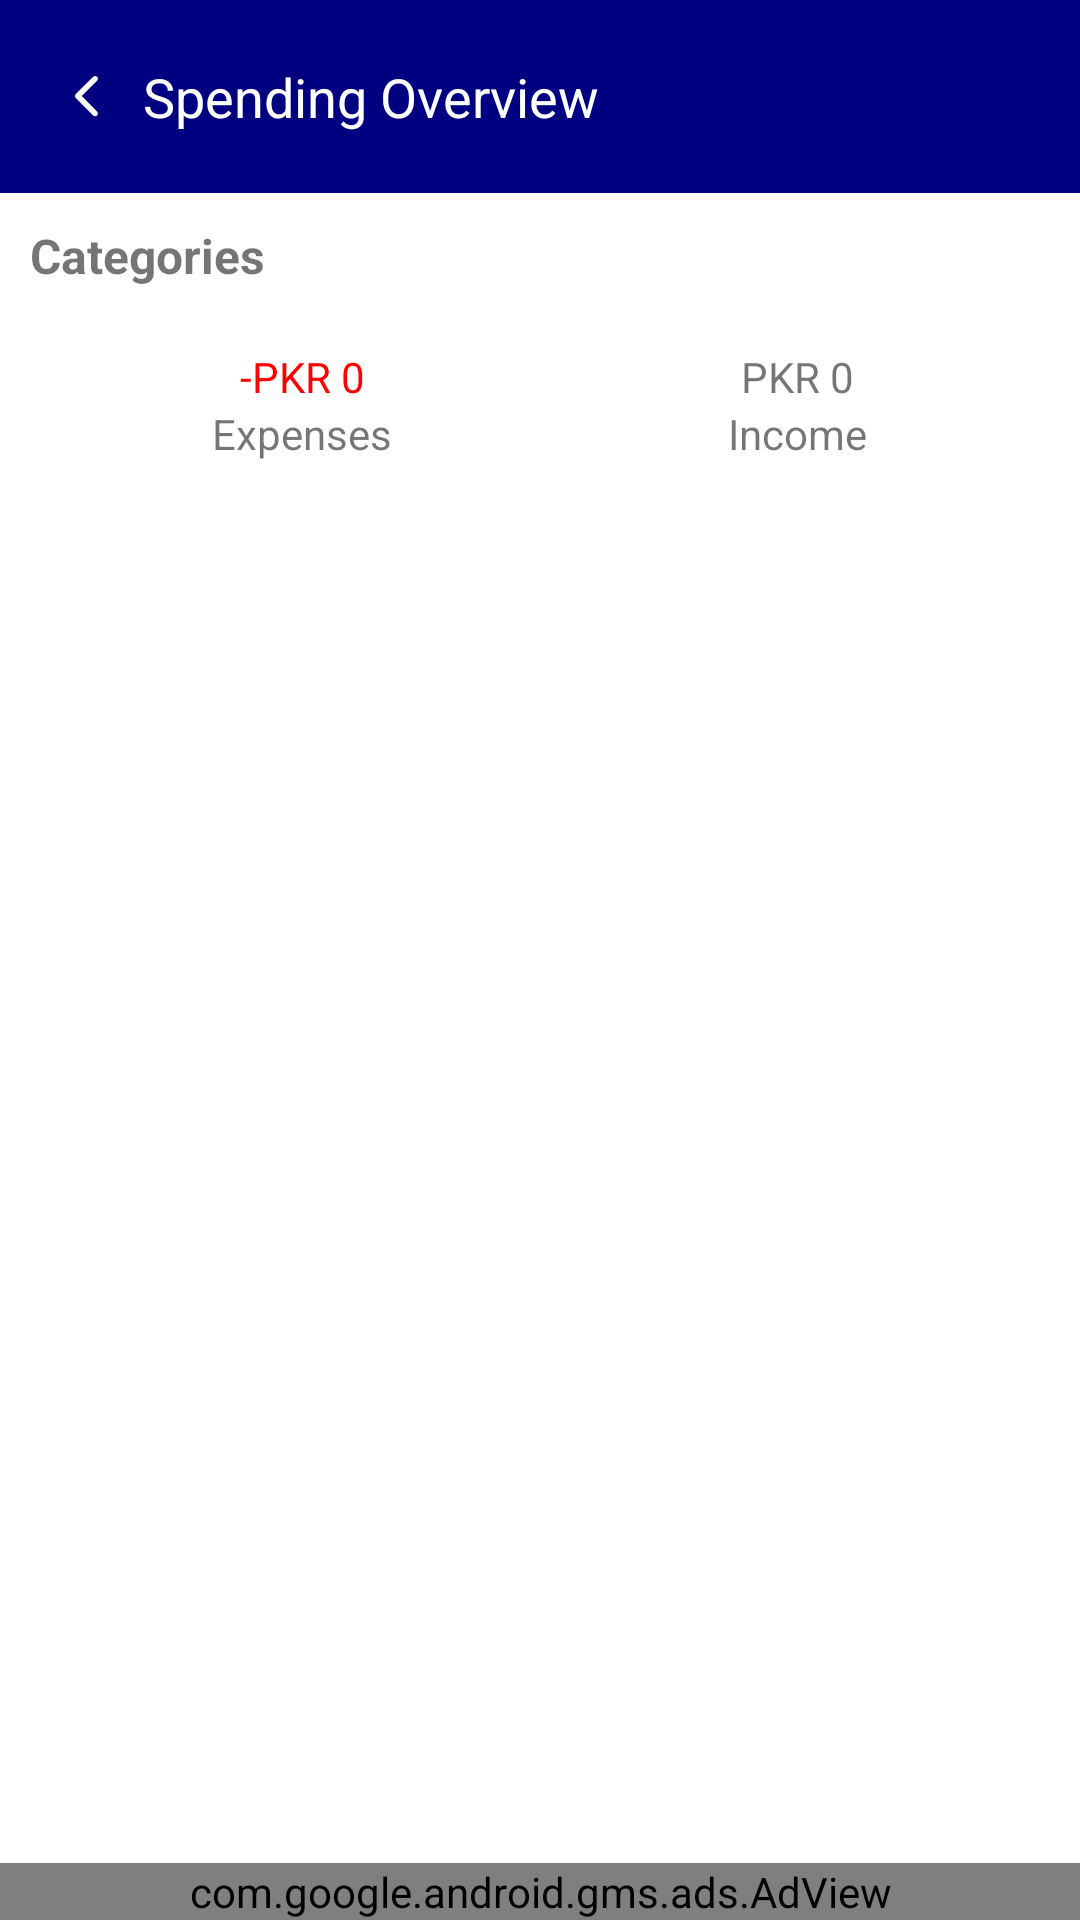

Icons on this 1080×1920 Android screen, each with its box as (x1, y1, x2, y2):
back: (75, 76, 98, 117)
